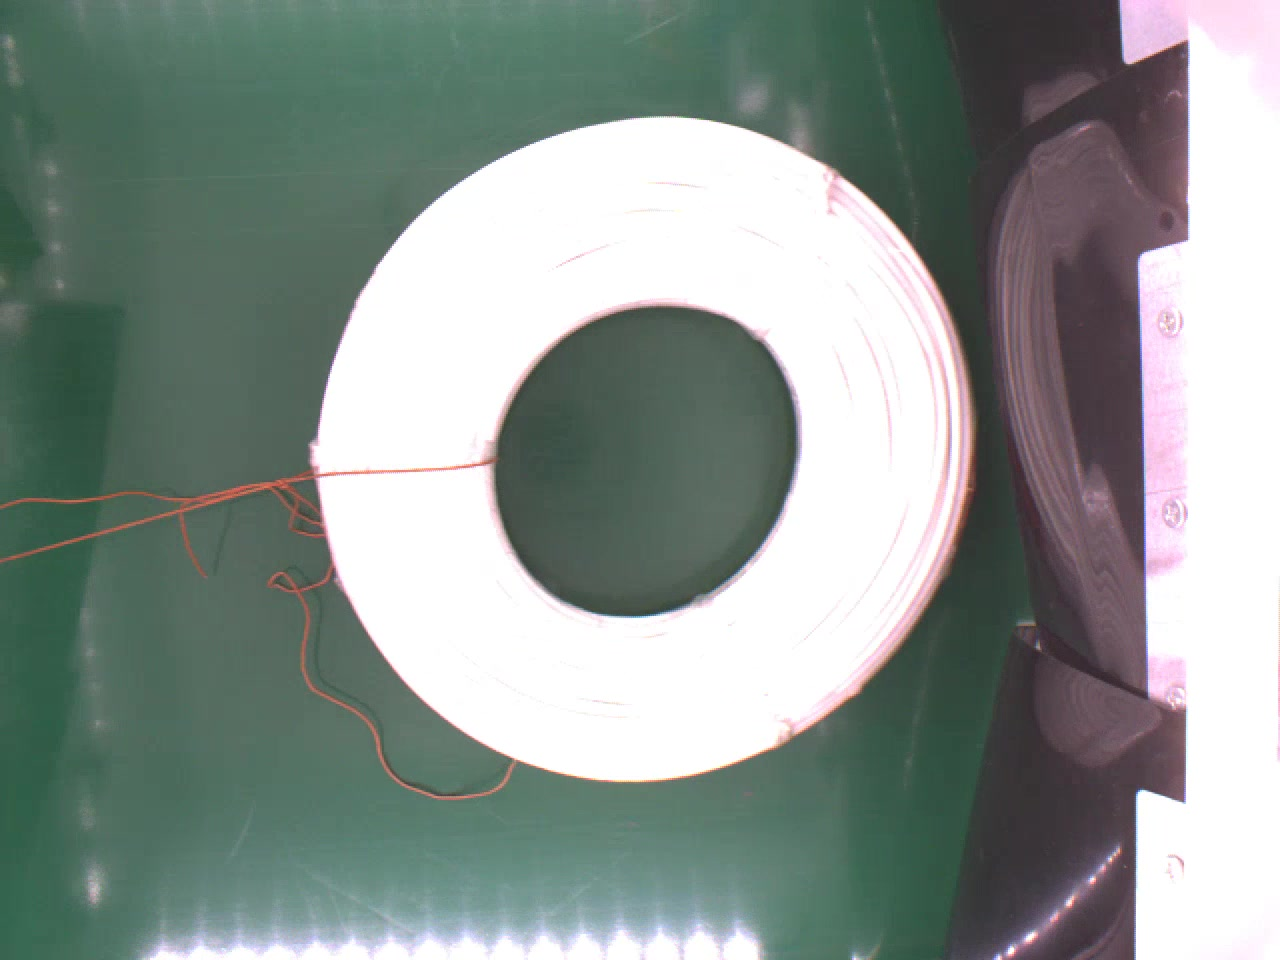white: (302, 101, 995, 783)
